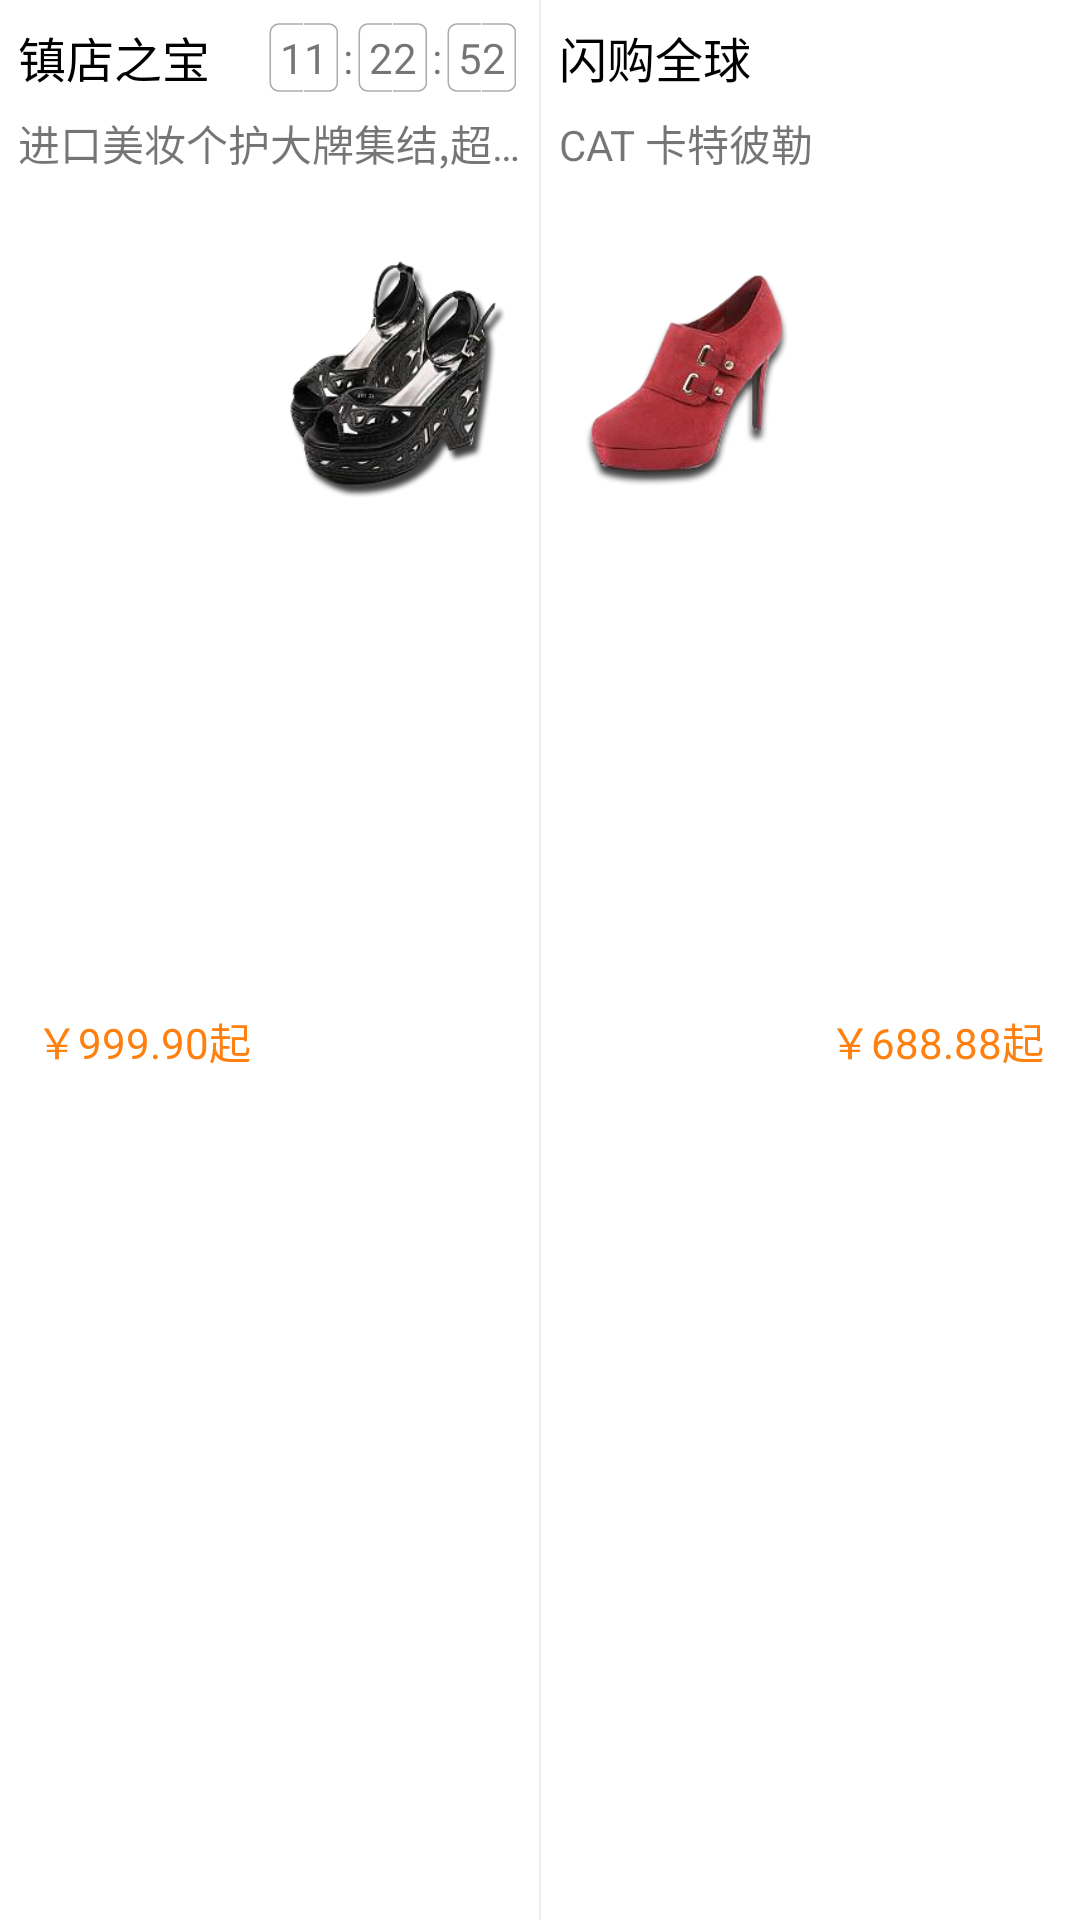

Named icons in this screenshot (1080x1920) and their bounding boxes, (x1, y1, x2, y2):
xiezi: (290, 261, 503, 496), (588, 275, 786, 483)
